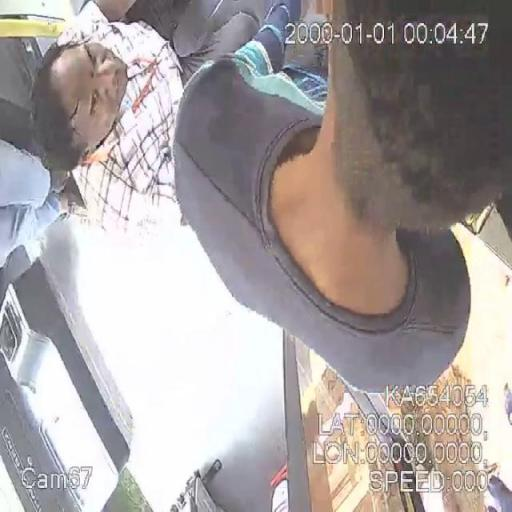persona: (171, 1, 509, 394), (26, 4, 261, 254)
